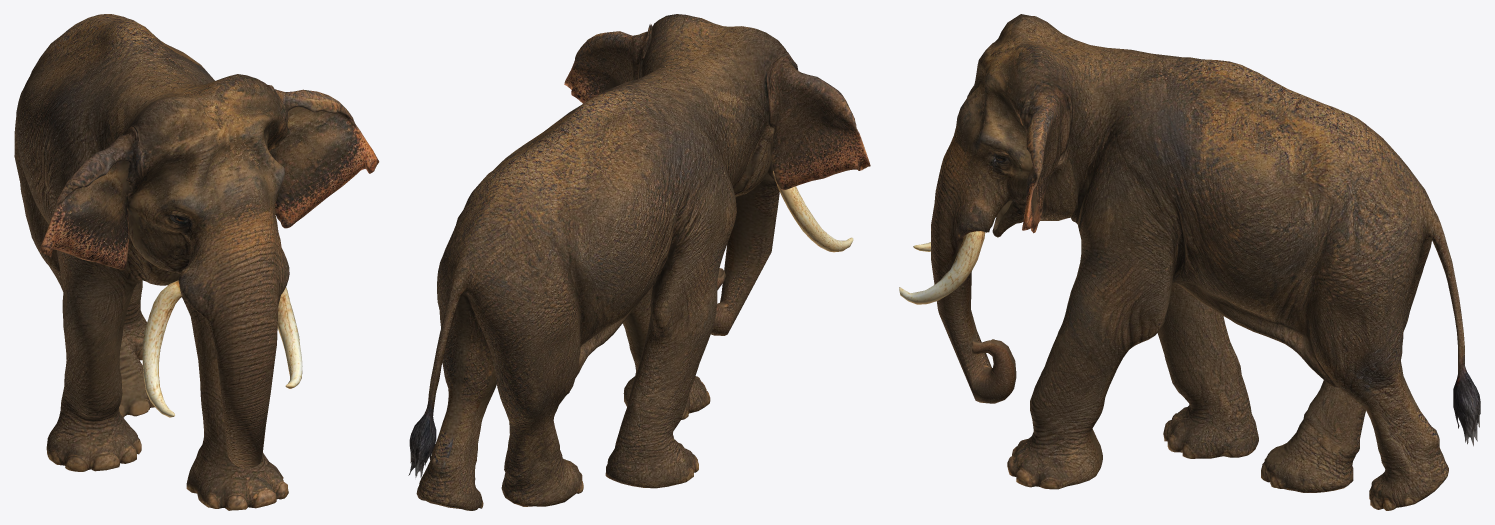
Rendered from Elephant.glb.
3 renders of one model, left to right at view 1: azimuth 30°, elevation 25°; view 2: azimuth 150°, elevation 25°; view 3: azimuth 270°, elevation 25°, orthographic. The views are drawn at different scales.
Visible parts, largest first — view 1: Object_4; view 2: Object_4; view 3: Object_4.
Part boxes in pixels (<box>): Object_4: <box>14,14,379,510</box>; Object_4: <box>408,14,870,510</box>; Object_4: <box>899,14,1480,510</box>.
Bounding box in the file's own units: 0.6595 × 0.8004 × 1.
1 material, 1 textured.
